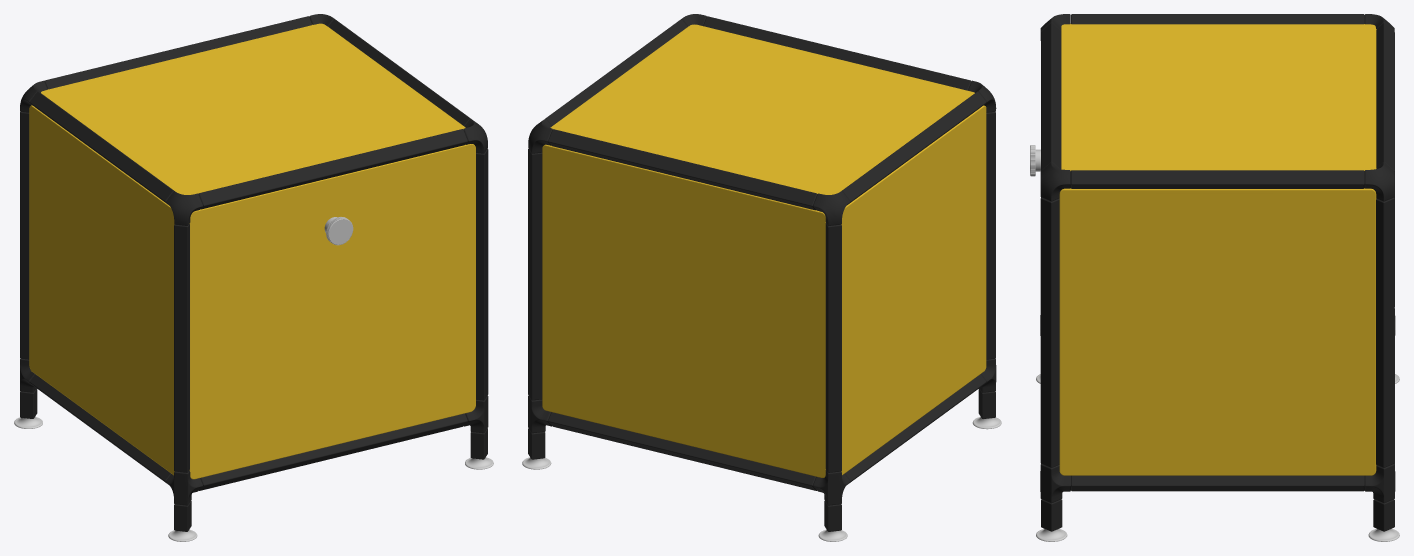
The picture shows the model from 3 angles, left to right: view 1: azimuth 30°, elevation 25°; view 2: azimuth 150°, elevation 25°; view 3: azimuth 270°, elevation 25°; orthographic projection. The views are drawn at different scales.
Visible parts, largest first — view 1: 420x374x374; view 2: 420x374x374; view 3: 420x374x374.
Part boxes in pixels (x1,y1,x2,y2): 420x374x374: (14, 14, 493, 541); 420x374x374: (522, 14, 1001, 541); 420x374x374: (1030, 14, 1399, 541).
Bounding box in the file's own units: 0.5099 × 0.5133 × 0.4707.
